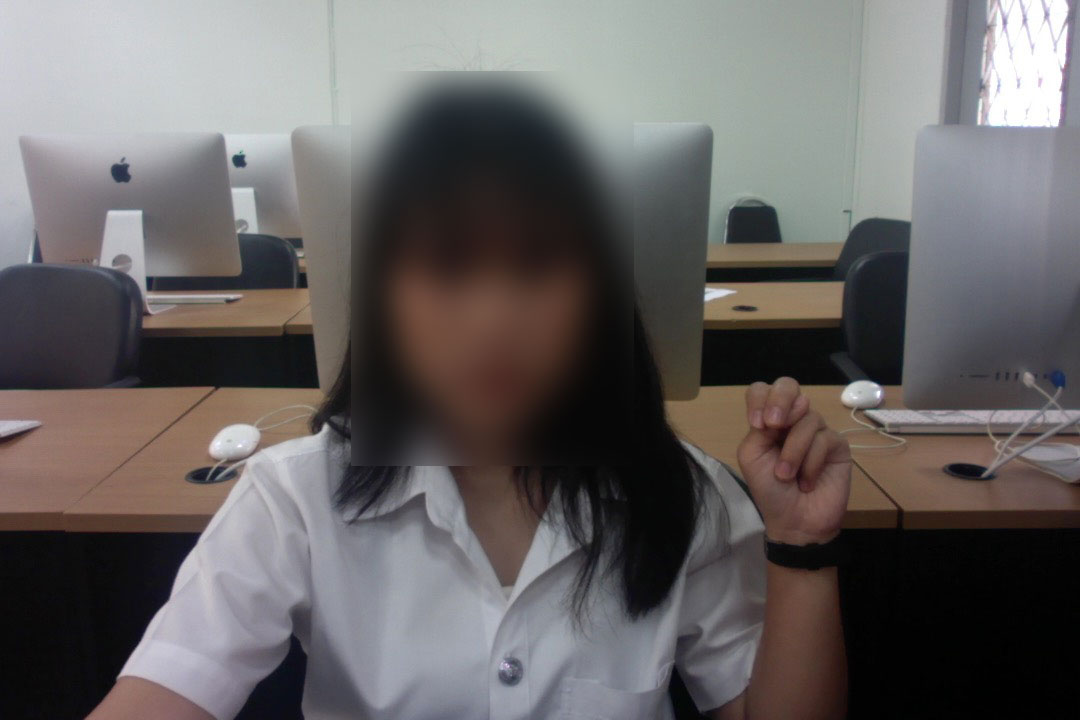nor: (730, 363, 855, 543)
